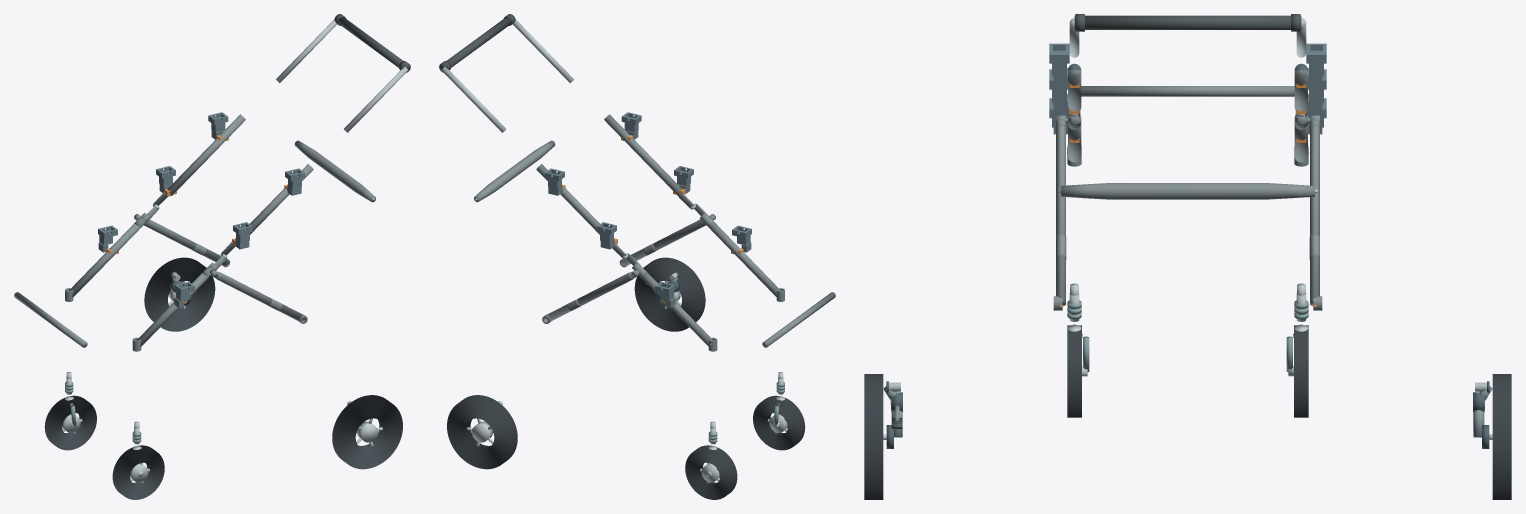
File: w650_state6_wheel_M.glb
3 renders of one model, left to right at view 1: azimuth 30°, elevation 25°; view 2: azimuth 150°, elevation 25°; view 3: azimuth 270°, elevation 25°, orthographic. The views are drawn at different scales.
Parts seen in each view (by area): view 1: RL_tire.016, RR_tire.016, FL_tire.016, FR_tire.016, V46_rearbar.014, main_upper_1.015, main_lower_1.015, round_handle.017, V46_rear_leg_-1.014, V46_rear_leg_1.014, front_fixed_round_tube.015, main_lower_-1.015 (+3 smaller); view 2: RR_tire.016, RL_tire.016, FR_tire.016, FL_tire.016, V46_rearbar.014, main_upper_-1.015, main_lower_-1.015, round_handle.017, V46_rear_leg_1.014, V46_rear_leg_-1.014, front_fixed_round_tube.015, main_lower_1.015 (+3 smaller); view 3: V46_rearbar.014, round_handle.017, RL_tire.016, RR_tire.016, front_fixed_round_tube.015, V46_rear_leg_1.014, V46_rear_leg_-1.014, FL_tire.016, FR_tire.016, Universal_Cabin_Receiver_H_1, Universal_Cabin_Receiver_H_-1.
Boxes of the visible parts, x1=… form: RL_tire.016: x1=332, y1=395, x2=402, y2=469; RR_tire.016: x1=144, y1=257, x2=215, y2=331; FL_tire.016: x1=112, y1=445, x2=164, y2=499; FR_tire.016: x1=44, y1=395, x2=96, y2=450; V46_rearbar.014: x1=294, y1=140, x2=375, y2=202; main_upper_1.015: x1=167, y1=114, x2=245, y2=195; main_lower_1.015: x1=69, y1=221, x2=144, y2=297; round_handle.017: x1=338, y1=17, x2=410, y2=71; V46_rear_leg_-1.014: x1=216, y1=272, x2=303, y2=321; V46_rear_leg_1.014: x1=144, y1=219, x2=228, y2=266; front_fixed_round_tube.015: x1=14, y1=292, x2=87, y2=347; main_lower_-1.015: x1=136, y1=273, x2=209, y2=346; RR_tire.016: x1=447, y1=395, x2=517, y2=469; RL_tire.016: x1=634, y1=257, x2=705, y2=331; FR_tire.016: x1=685, y1=445, x2=737, y2=499; FL_tire.016: x1=753, y1=395, x2=805, y2=450; V46_rearbar.014: x1=474, y1=140, x2=555, y2=202; main_upper_-1.015: x1=604, y1=114, x2=682, y2=195; main_lower_-1.015: x1=705, y1=221, x2=780, y2=297; round_handle.017: x1=439, y1=17, x2=511, y2=71; V46_rear_leg_1.014: x1=546, y1=272, x2=633, y2=321; V46_rear_leg_-1.014: x1=621, y1=219, x2=705, y2=266; front_fixed_round_tube.015: x1=762, y1=292, x2=835, y2=347; main_lower_1.015: x1=640, y1=273, x2=713, y2=346; V46_rearbar.014: x1=1061, y1=183, x2=1314, y2=199; round_handle.017: x1=1074, y1=15, x2=1301, y2=29; RL_tire.016: x1=864, y1=374, x2=883, y2=499; RR_tire.016: x1=1492, y1=374, x2=1511, y2=499; front_fixed_round_tube.015: x1=1081, y1=86, x2=1294, y2=96; V46_rear_leg_1.014: x1=1310, y1=124, x2=1319, y2=306; V46_rear_leg_-1.014: x1=1056, y1=124, x2=1065, y2=306; FL_tire.016: x1=1067, y1=325, x2=1081, y2=417; FR_tire.016: x1=1294, y1=325, x2=1308, y2=417; Universal_Cabin_Receiver_H_1: x1=1306, y1=43, x2=1326, y2=88; Universal_Cabin_Receiver_H_-1: x1=1049, y1=43, x2=1069, y2=88.
Bounding box in the file's own units: 1.51 × 1.62 × 1.54.
